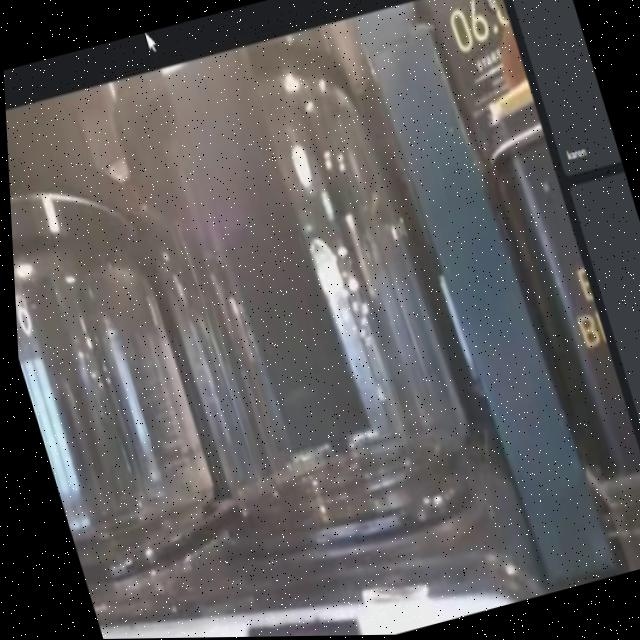nocoffee: (93, 14, 511, 564), (6, 146, 234, 586)
